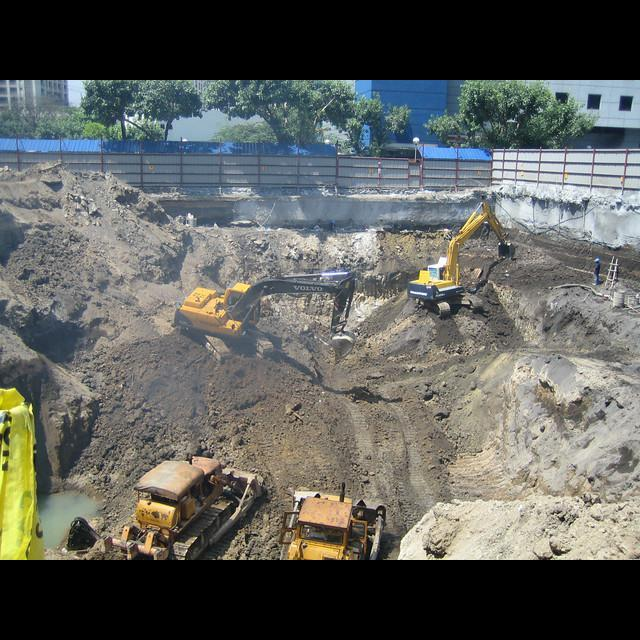Excavator: (176, 268, 357, 364), (406, 201, 516, 318)
NO-Hardhat: (594, 258, 599, 262)
NO-Safety Vest: (595, 263, 600, 276)
Person: (593, 258, 601, 285)
wheel loader: (107, 450, 263, 560), (275, 482, 387, 560)
